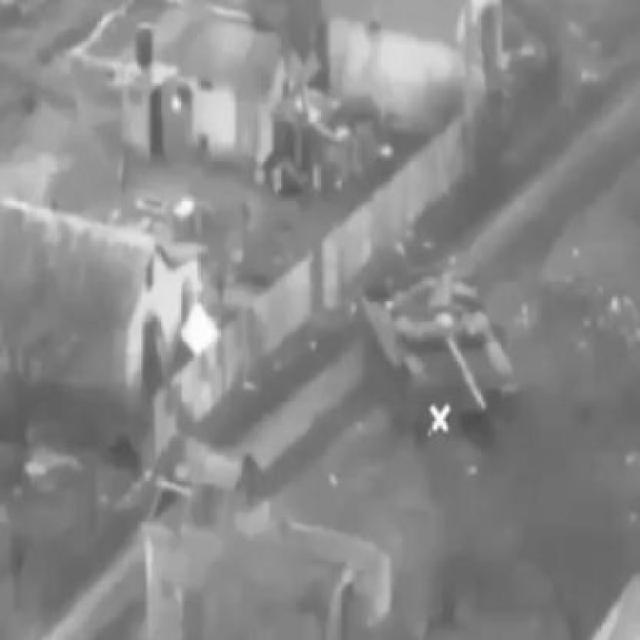Tank: (359, 249, 526, 443)
